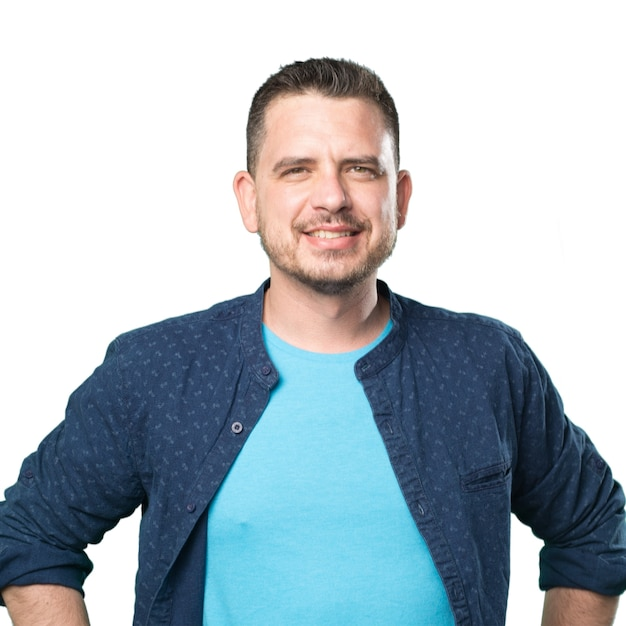young: (207, 42, 421, 297)
